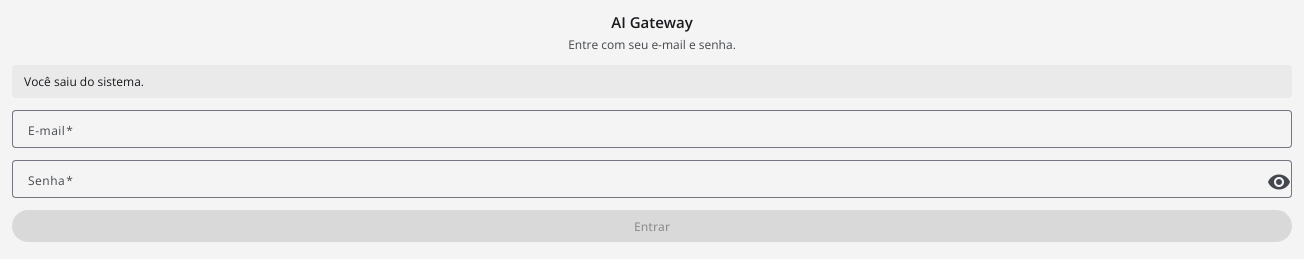
Test: SignInComponent › navigation message › should clear the navigation message on submit
Type "ana@example.com" into the field named "email".
click(652, 129); type("ana@example.com")  # box [28,117,1276,141]
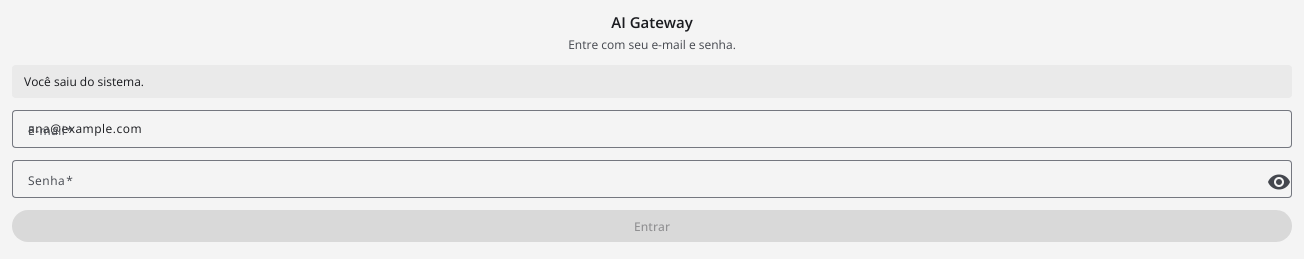
Type "secret-password" into the password field named "password".
click(642, 179); type("secret-password")  # box [28,167,1256,191]
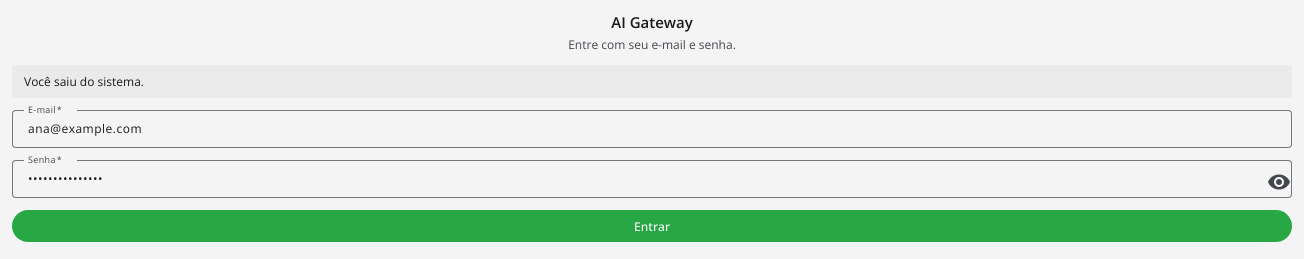
Submit the form with class "sign-in-form", box [12,110,1292,242]
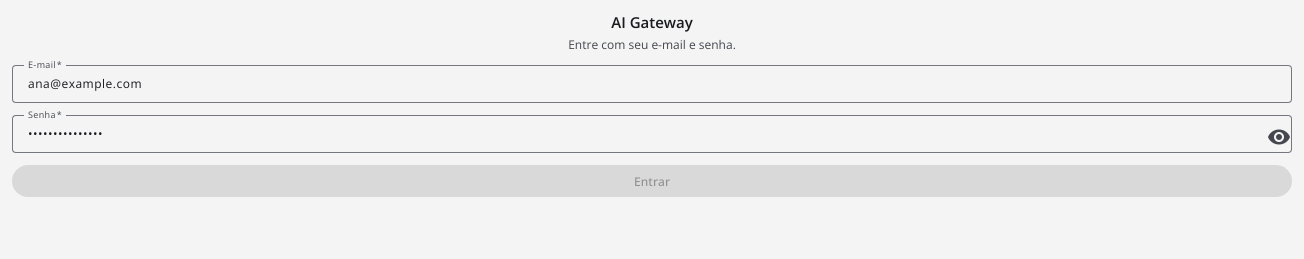
Result: the message with class "callout-info" is gone
